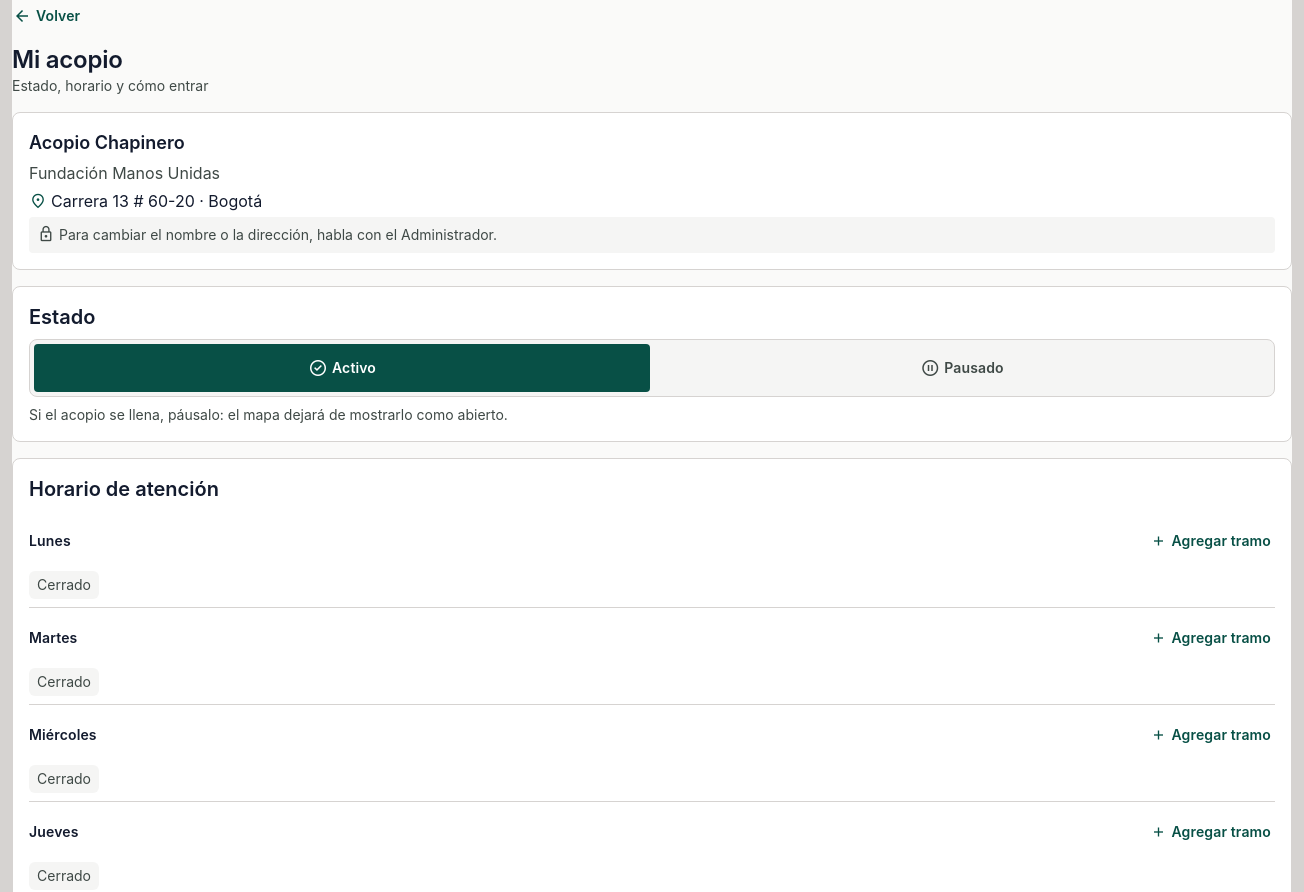
Mi acopio › pausar y guardar manda solo lo operativo
This screenshot has width=1304, height=892.
Click the radio button labelled "Pausado": (962, 368) x1=920 y1=356 x2=1004 y2=380
(page scrolled)
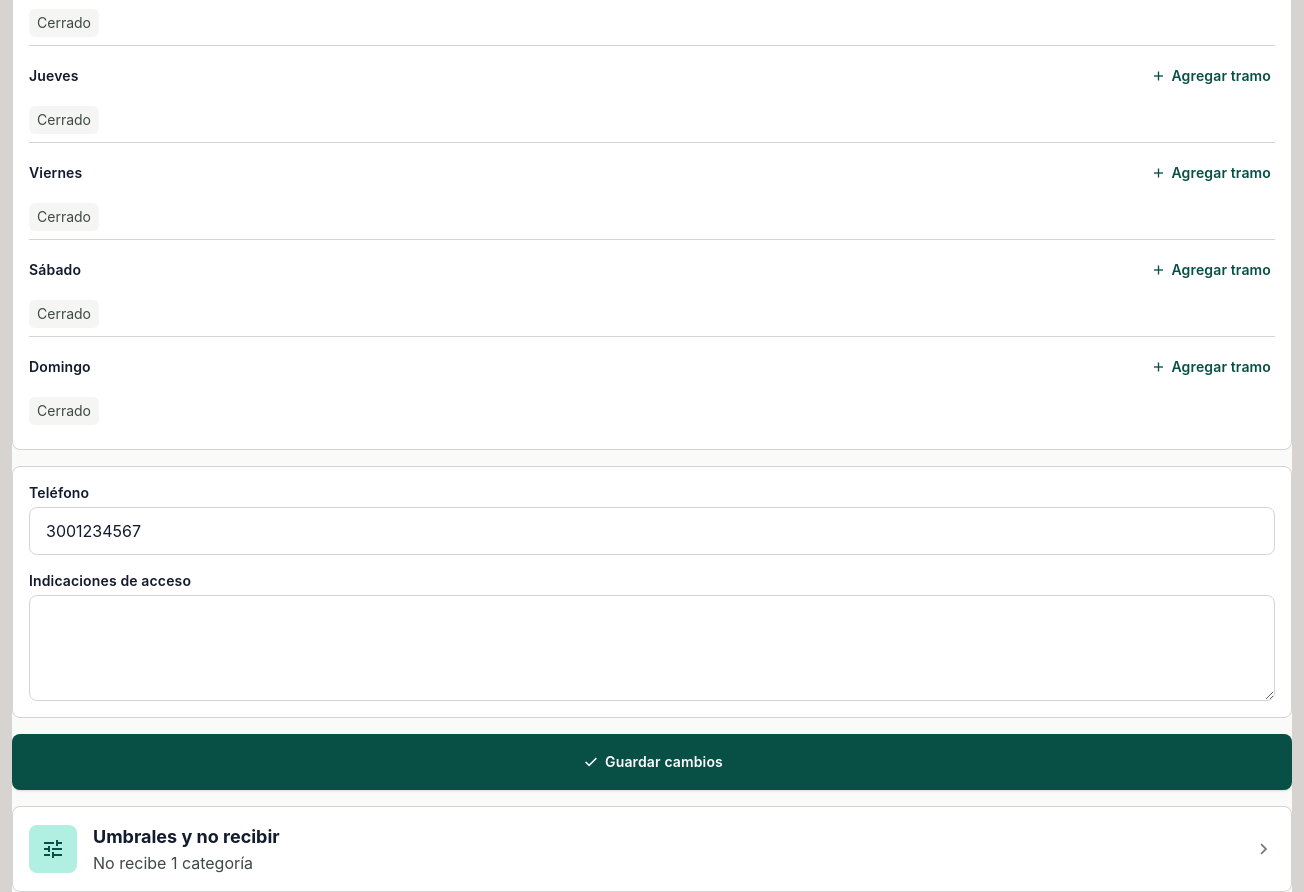
Click the button "Guardar cambios": (652, 762) x1=12 y1=734 x2=1292 y2=790
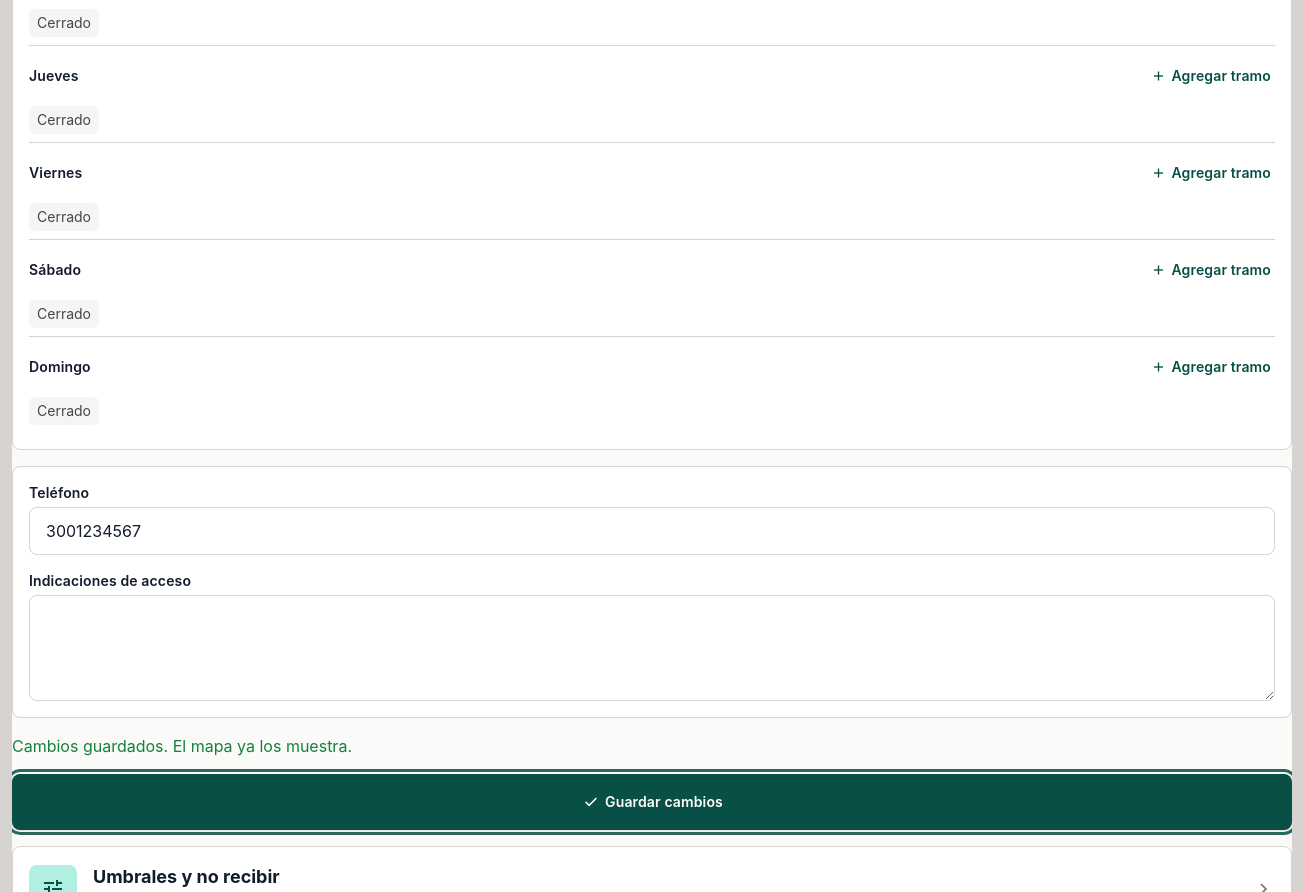
Result: the message shows "Cambios guardados" at x1=12 y1=736 x2=352 y2=756
